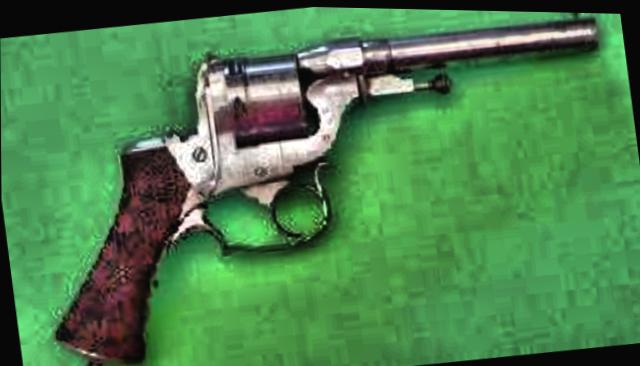pistol: (13, 0, 631, 366)
